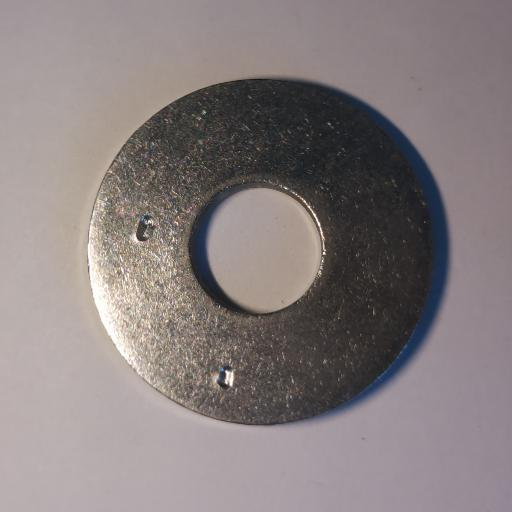circular_cavity: (135, 214, 155, 241), (215, 365, 236, 389)
